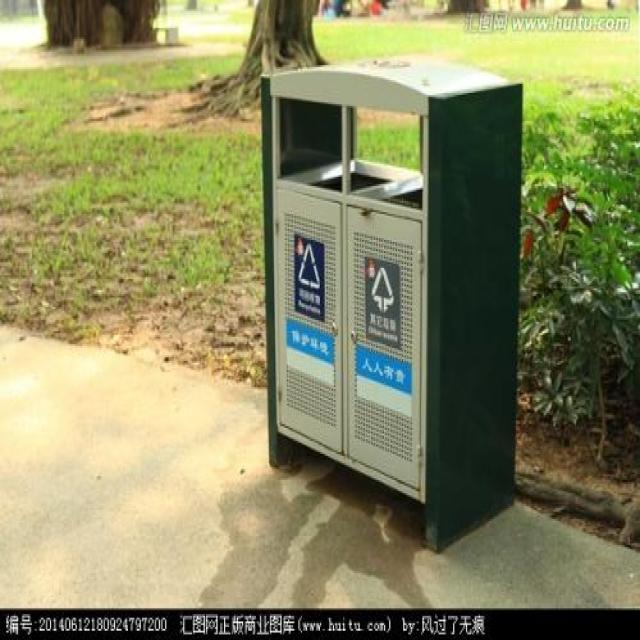garbage_bin: (260, 58, 522, 550)
